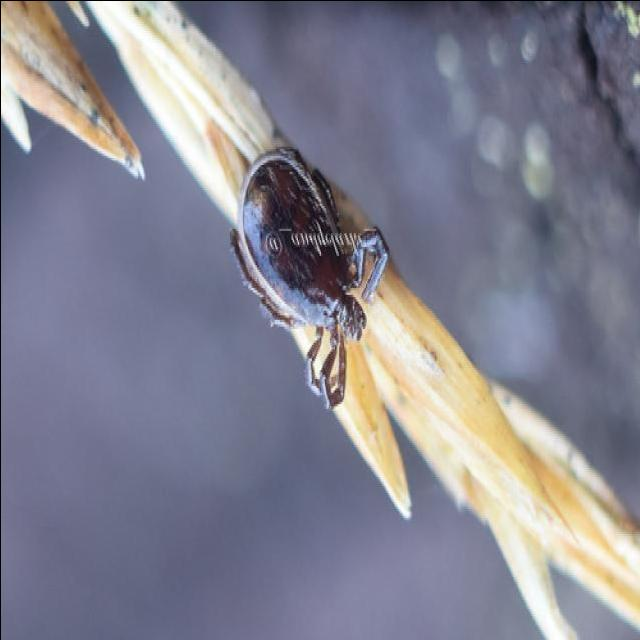Ixodes Ricinus-M: (228, 146, 387, 405)
